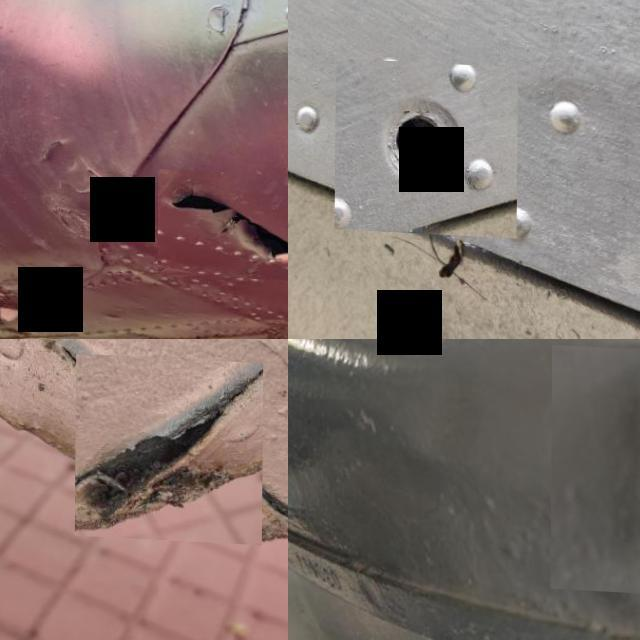Crack: (75, 349, 264, 539), (158, 166, 288, 278)
Dent: (550, 341, 640, 593)
Missing_Fastener: (336, 55, 518, 234)
